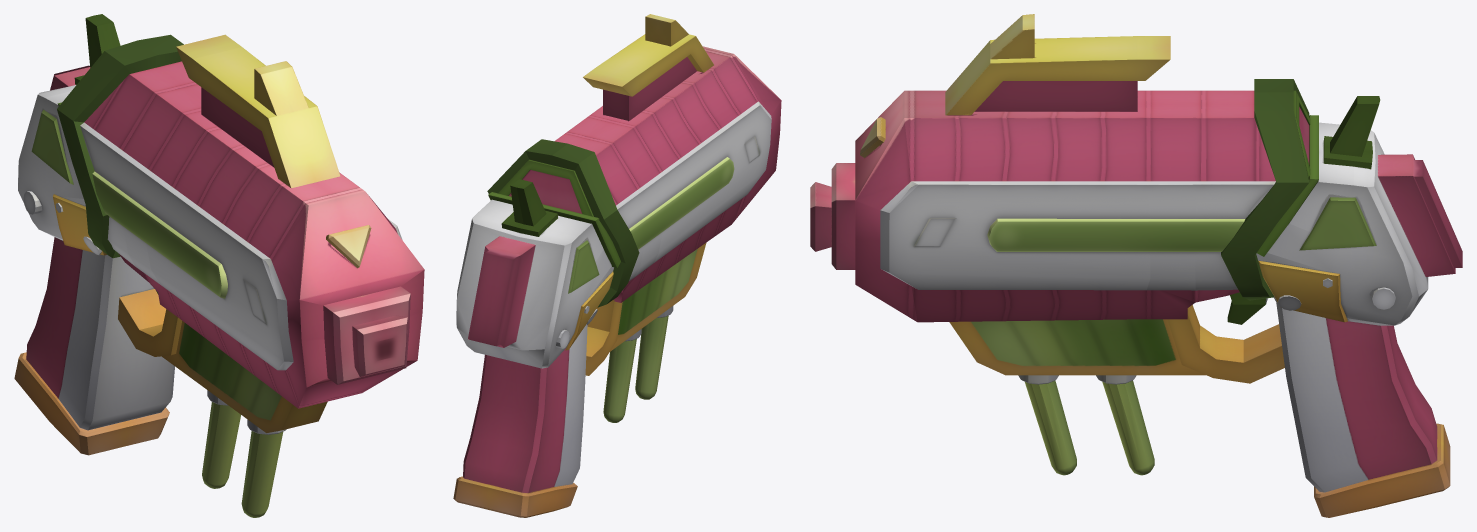
The model's file is SM_GhostGun01.fbx.
3 renders of one model, left to right at view 1: azimuth 30°, elevation 25°; view 2: azimuth 150°, elevation 25°; view 3: azimuth 270°, elevation 25°, orthographic. The views are drawn at different scales.
Parts seen in each view (by area): view 1: GhostGun; view 2: GhostGun; view 3: GhostGun.
Part boxes in pixels (x1=…): GhostGun: x1=14, y1=14, x2=424, y2=517; GhostGun: x1=453, y1=14, x2=781, y2=517; GhostGun: x1=810, y1=14, x2=1462, y2=517.
Size of the model in its own units: 24.95 by 79.05 by 97.46.
Materials: 1 (1 with a texture image).
